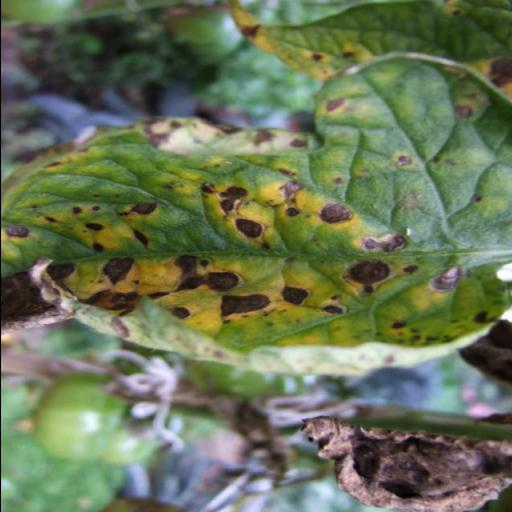disease_tomato: (0, 52, 512, 360)
